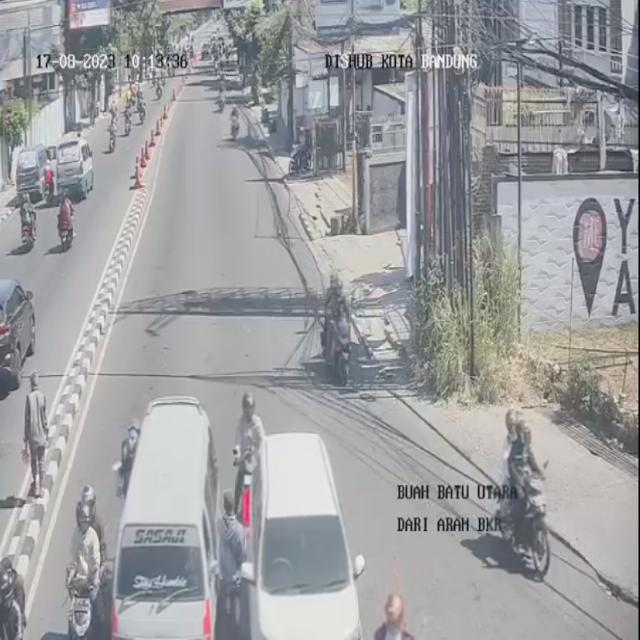cars: (107, 405, 222, 640), (246, 434, 358, 640)
motorcycle: (488, 411, 558, 585), (65, 493, 106, 638), (235, 390, 267, 538), (365, 587, 420, 640), (325, 268, 349, 370), (0, 559, 23, 640), (228, 102, 242, 145), (217, 75, 226, 114)
